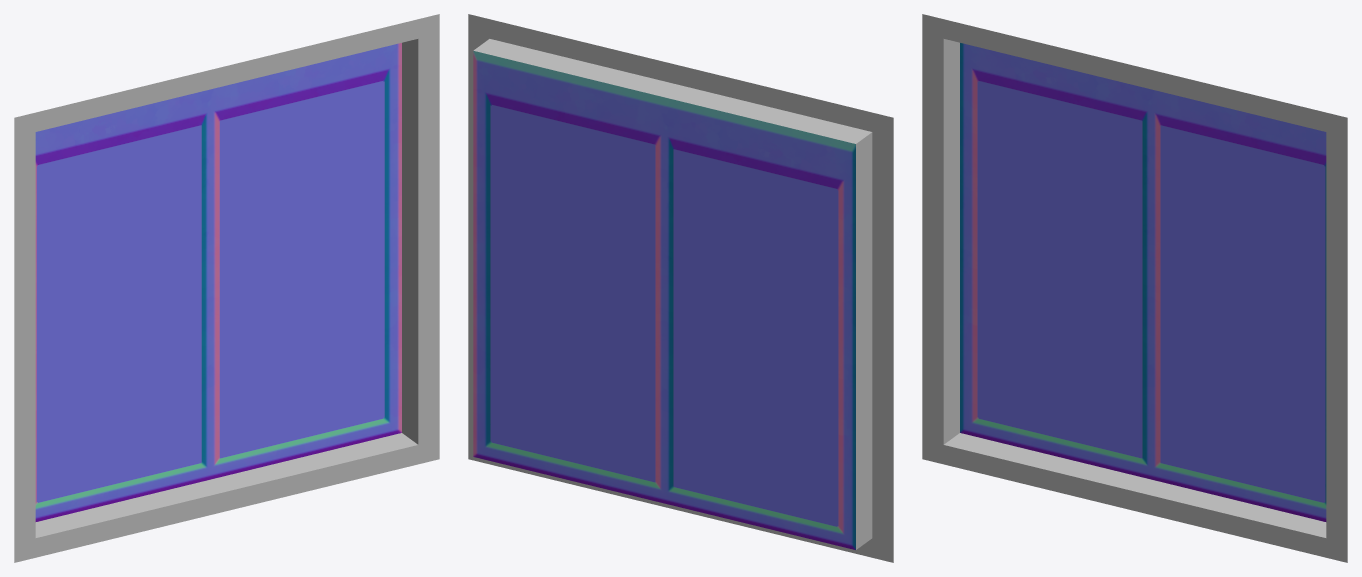
The model's file is SM_ENV_ALLEY_MODULAR_BUILDING_2_WINDOW_01.fbx.
The picture shows the model from 3 angles, left to right: view 1: azimuth 30°, elevation 25°; view 2: azimuth 150°, elevation 25°; view 3: azimuth 330°, elevation 25°; orthographic projection.
Parts seen in each view (by area): view 1: SM_ENV_ALLEY_MODULAR_BUILDING_2_WINDOW_01; view 2: SM_ENV_ALLEY_MODULAR_BUILDING_2_WINDOW_01; view 3: SM_ENV_ALLEY_MODULAR_BUILDING_2_WINDOW_01.
Part boxes in pixels (x1,y1,x2,y2): SM_ENV_ALLEY_MODULAR_BUILDING_2_WINDOW_01: [14, 14, 439, 562]; SM_ENV_ALLEY_MODULAR_BUILDING_2_WINDOW_01: [468, 14, 893, 562]; SM_ENV_ALLEY_MODULAR_BUILDING_2_WINDOW_01: [922, 14, 1347, 562].
Bounding box in the file's own units: 1.5 × 1.5 × 0.1.
